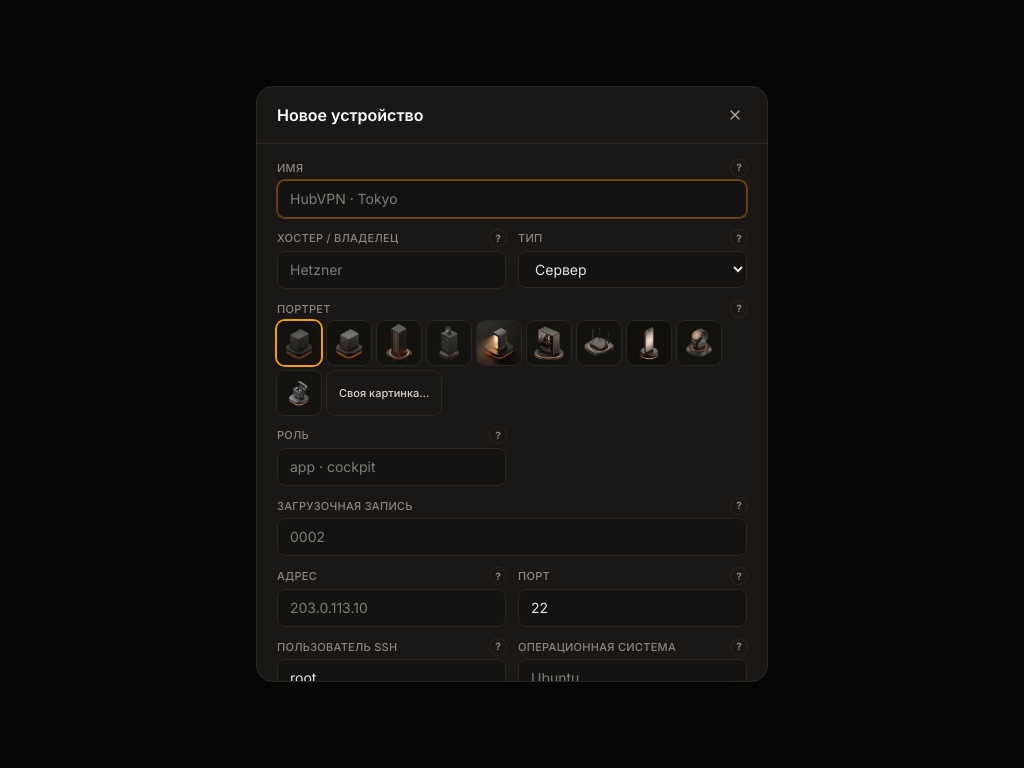
Scenario: форма устройства — кнопки-помощники › SSH-проба нового устройства идёт по введённым данным
Type "198.51.100.7" into the field labelled "Адрес".
click(392, 608); type("198.51.100.7")  # box [277, 589, 506, 627]
(page scrolled)
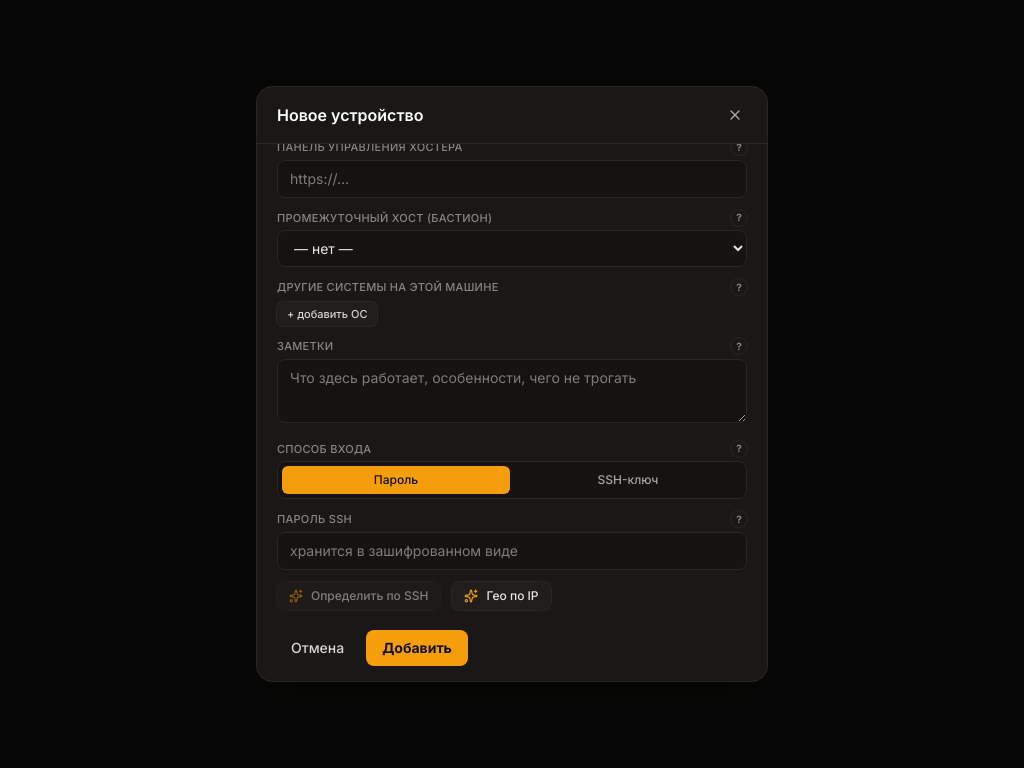
Type "hunter2" into the password field labelled "Пароль SSH".
click(512, 551); type("hunter2")  # box [277, 532, 747, 570]
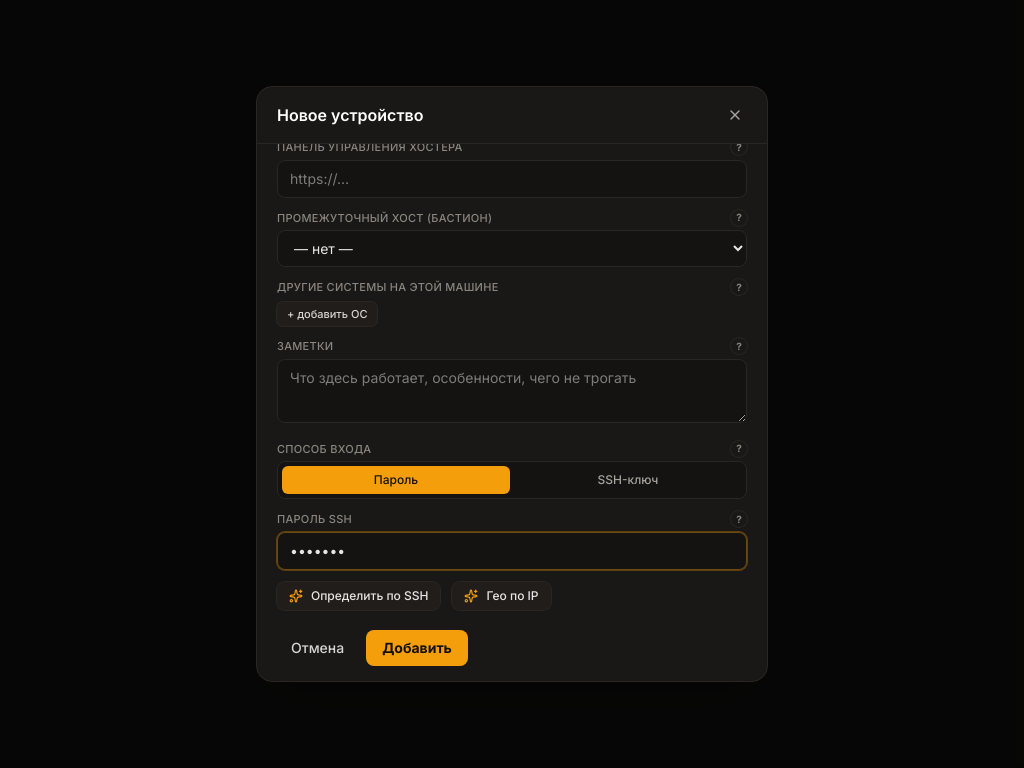
Click the button "Определить по SSH".
click(359, 596)  # box [277, 582, 440, 610]
(page scrolled)
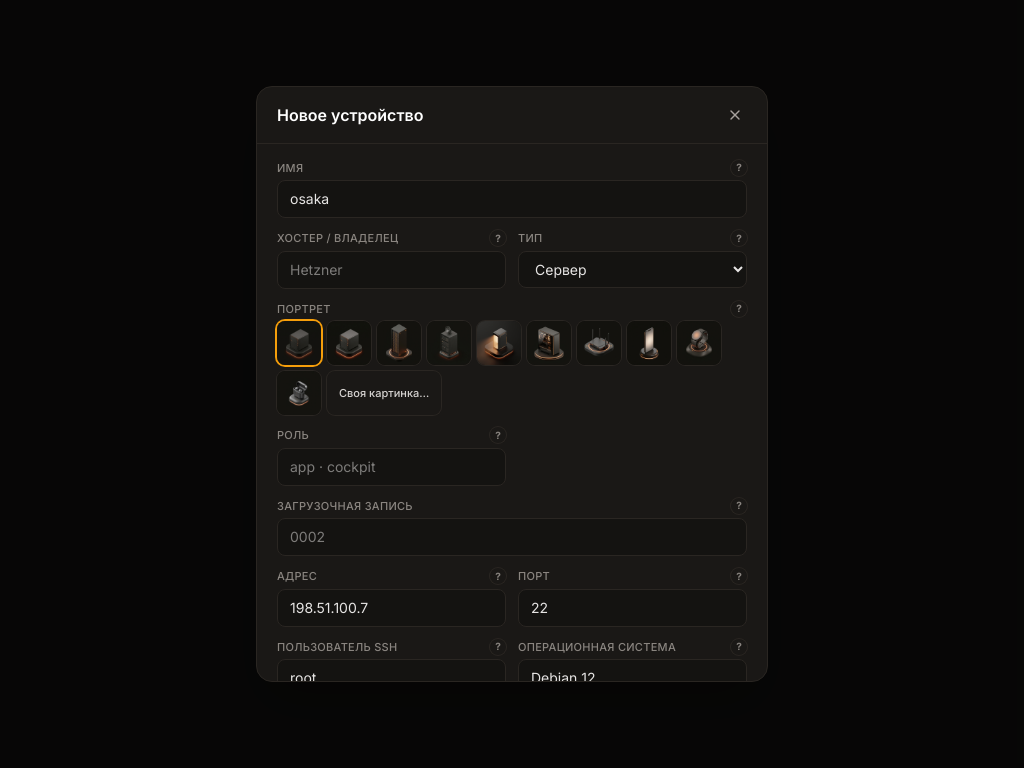
Expected: the field labelled "Имя" holds "osaka", [277, 180, 747, 218]
